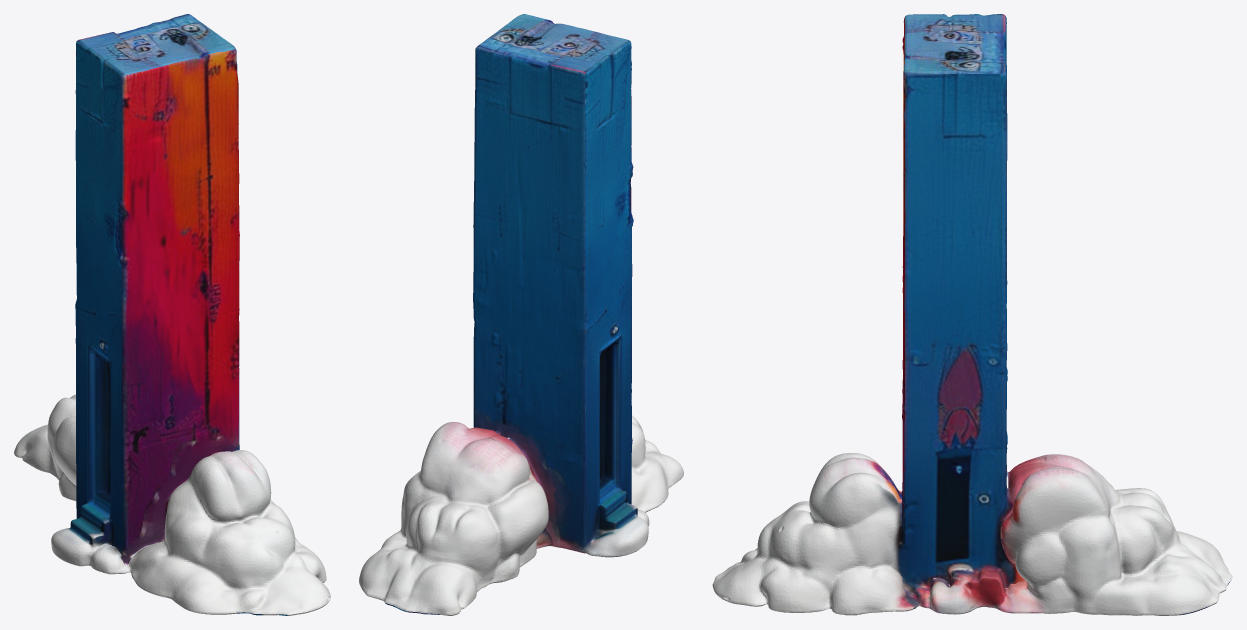
The model's file is weathered-monolith-pillar-generated-2026-04-18t22-01-36-007z-texture-wrap-2026-04-18t22-48-19-209z-generated-2026-04-19T00-26-03-604Z.glb.
The picture shows the model from 3 angles, left to right: view 1: azimuth 30°, elevation 25°; view 2: azimuth 150°, elevation 25°; view 3: azimuth 270°, elevation 25°; orthographic projection. The views are drawn at different scales.
Visible parts, largest first — view 1: temp_mesh.ply; view 2: temp_mesh.ply; view 3: temp_mesh.ply.
Part boxes in pixels (box(x1,y1,x2,y2)): temp_mesh.ply: box(14, 14, 330, 615); temp_mesh.ply: box(359, 14, 683, 615); temp_mesh.ply: box(712, 14, 1232, 615).
Size of the model in its own units: 0.7866 by 1.98 by 1.77.
Materials: 1 (1 with a texture image).
